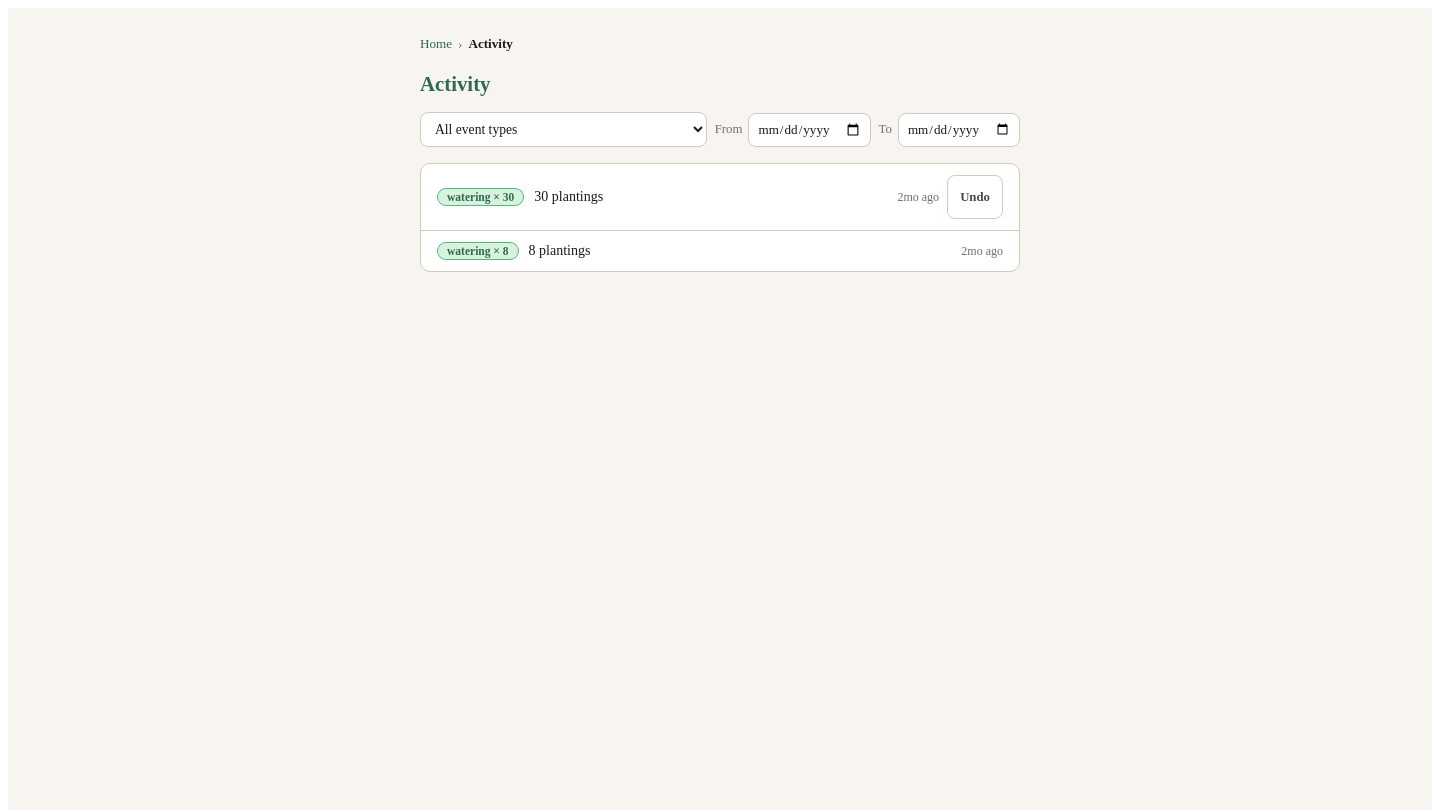
Test: V4-BATCHUNDO-001 — confirming undoes THAT batch › removes the collapsed row and closes the sheet once the server confirms
Check: the dropdown named "Filter by event type" is shown, box [420, 112, 707, 147]
What coordinates should you click on to do the following:
click the button "Undo"
I would click on:
 (975, 197)
Its box is [947, 175, 1003, 219].
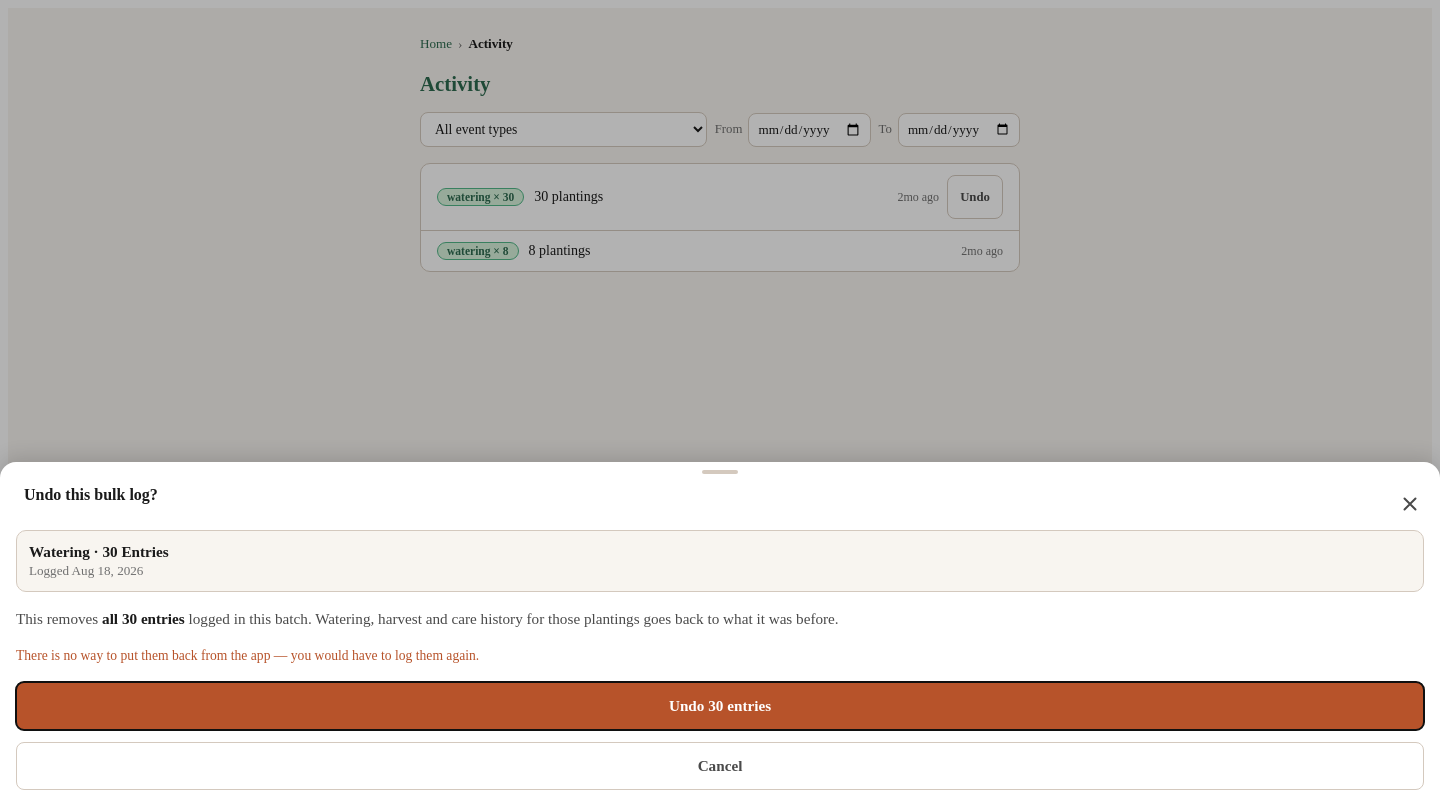
What coordinates should you click on to do the following:
click the button with test id "batch-undo-confirm"
I would click on:
 (720, 706)
Its box is [16, 682, 1424, 730].
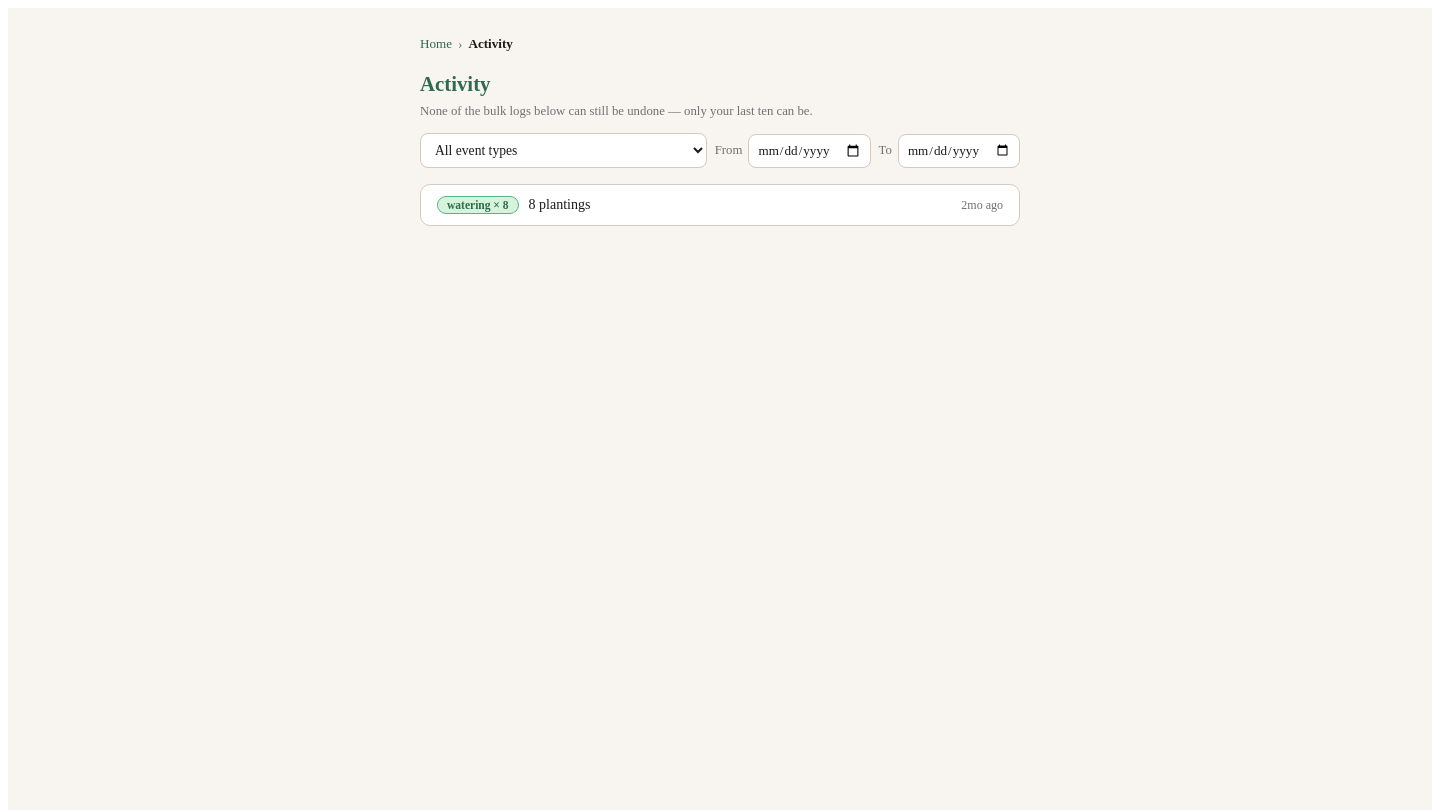
Check: the text "watering × 8" is shown, box [437, 196, 519, 214]
Check: the element with test id "batch-undo-body" is gone
